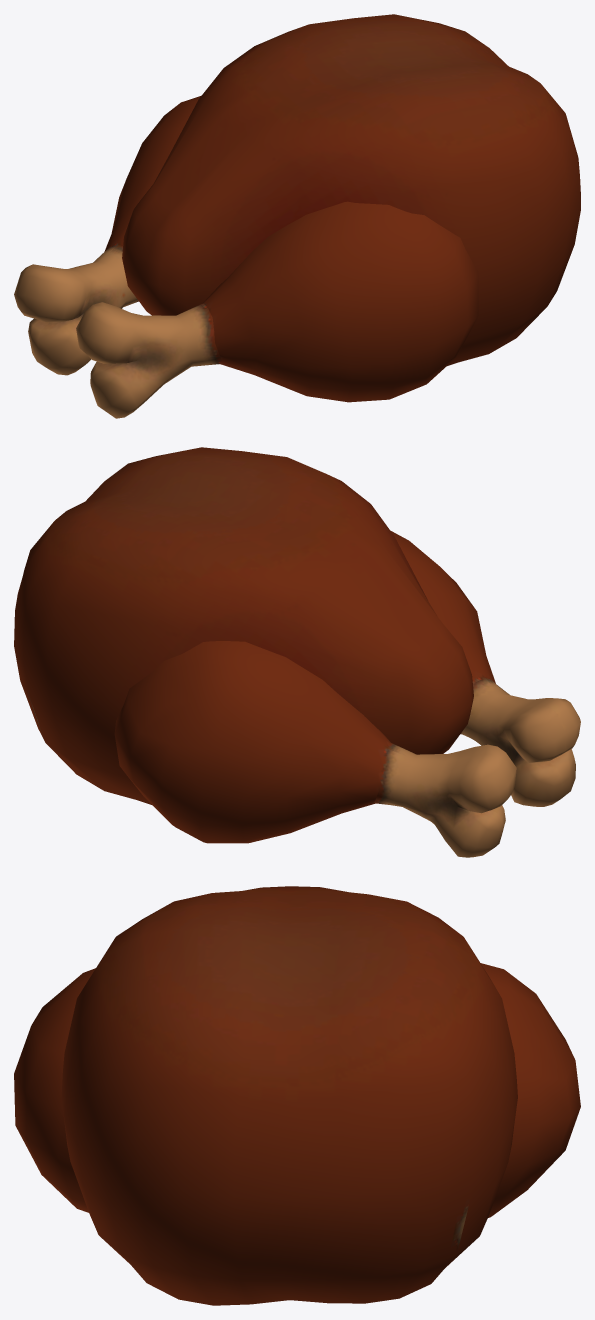
Rendered from Turkey_Cooked_Plated.fbx.
3 views of the same model, one above another, from view 1: azimuth 30°, elevation 25°; view 2: azimuth 150°, elevation 25°; view 3: azimuth 270°, elevation 25° (orthographic). The views are drawn at different scales.
Visible parts, largest first — view 1: Turkey_Cooked_Plated; view 2: Turkey_Cooked_Plated; view 3: Turkey_Cooked_Plated.
Part boxes in pixels (<box>): Turkey_Cooked_Plated: <box>14,14,580,418</box>; Turkey_Cooked_Plated: <box>14,447,580,857</box>; Turkey_Cooked_Plated: <box>14,886,580,1305</box>.
Bounding box in the file's own units: 0.8075 × 0.4332 × 0.6737.
1 material, 1 textured.
